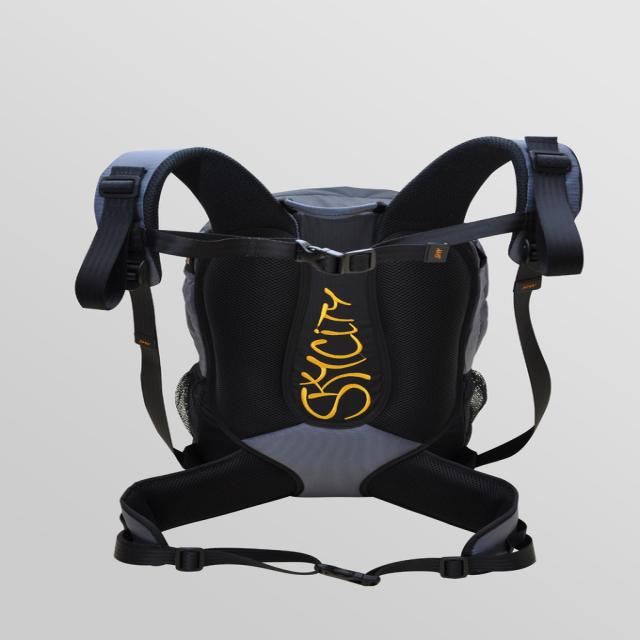backpack: (89, 133, 600, 583)
